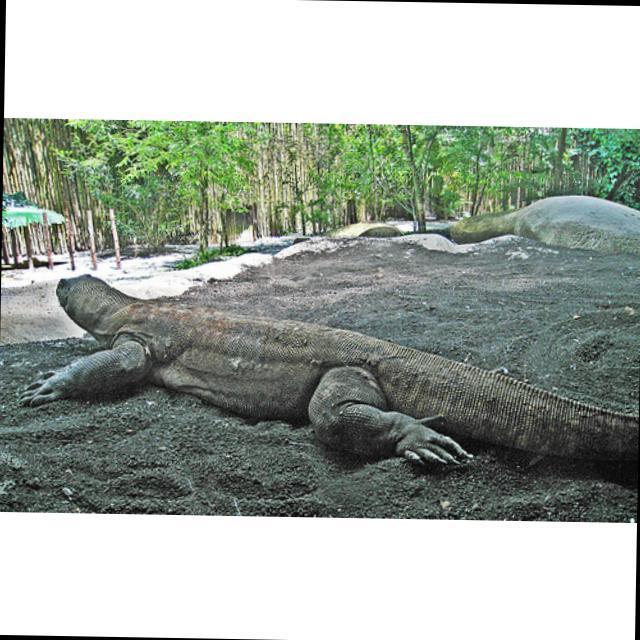KomodoDragon: (16, 269, 635, 475)
